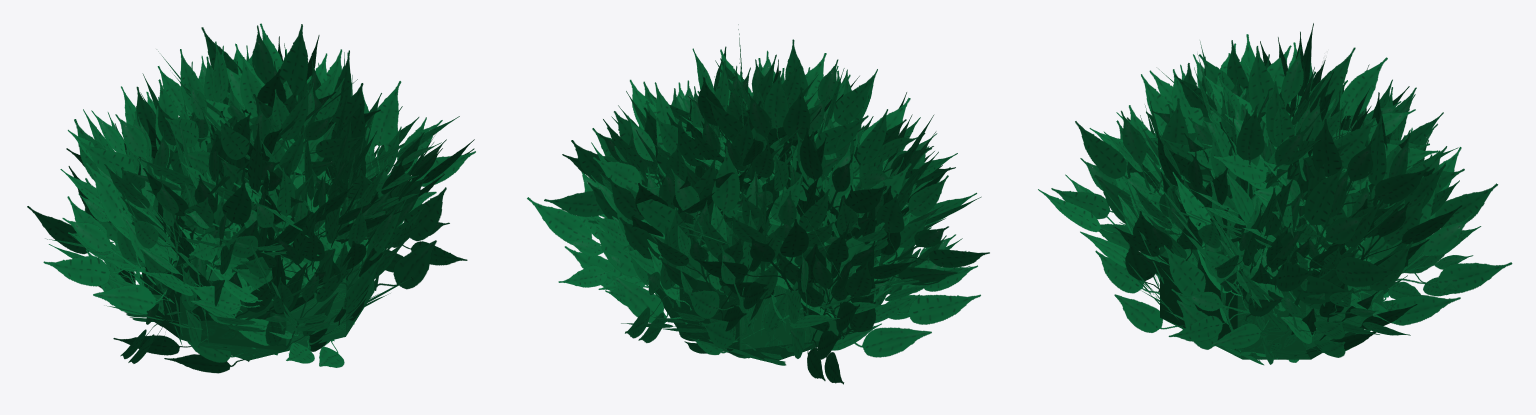
File: bush.glb
3 views of the same model, side by side, from view 1: azimuth 30°, elevation 25°; view 2: azimuth 150°, elevation 25°; view 3: azimuth 270°, elevation 25° (orthographic). The views are drawn at different scales.
Visible parts, largest first — view 1: bush_branch (×80), Cube; view 2: bush_branch (×73), Cube; view 3: bush_branch (×63), Cube.
Part boxes in pixels (<box>): bush_branch (×80): <box>27,23,475,373</box>; Cube: <box>145,174,374,360</box>; bush_branch (×73): <box>527,39,989,384</box>; Cube: <box>655,189,875,362</box>; bush_branch (×63): <box>1038,23,1512,357</box>; Cube: <box>1160,195,1383,359</box>.
Bounding box in the file's own units: 4.62 × 3.64 × 4.4.
Materials: 2 (2 with a texture image).
